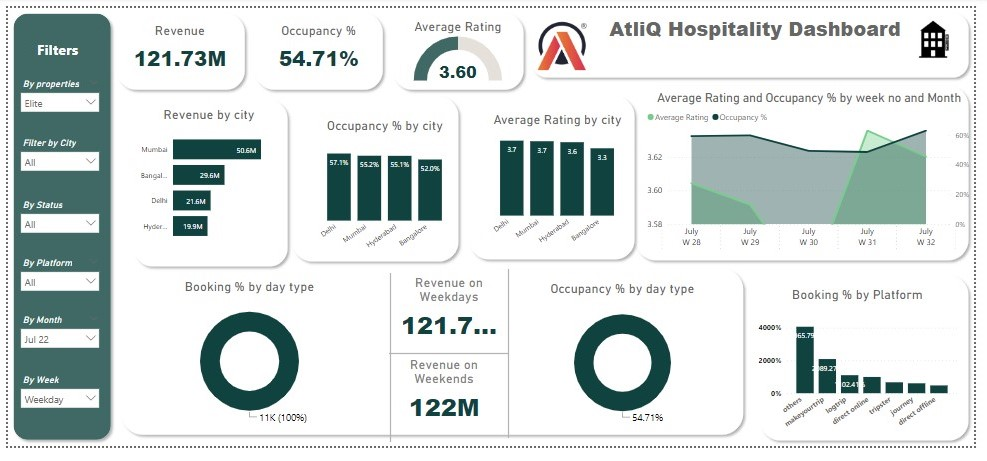

Layout of this report page (visuals, bound fields, positions):
{"tool":"powerbi","page":{"name":"Page 3","canvas":[1900,1100],"ordinal":2},"visuals":[{"type":"group","id":"g1","title":"Group 1","box":[92.9,166.4,470,61.5],"z":0,"group":"g2"},{"type":"tableEx","fields":{"Values":["dim_date.day type","key_measures.RevPAR","key_measures.Occupancy %","key_measures.ADR","key_measures.Realisation %"]},"box":[102,364,414,104],"z":0,"group":"g5"},{"type":"shape","box":[222.2,1047.2,1390.4,52.8],"z":0},{"type":"slicer","title":"Filter by city","fields":{"Values":["dim_hotels.city"]},"box":[58.3,11.6,235.4,63.7],"z":1000,"group":"g6"},{"type":"shape","box":[640.2,103.4,488.4,312.4],"z":1000},{"type":"group","id":"g2","title":"Group 3","box":[38,104,562,123.9],"z":1000,"group":"g5"},{"type":"group","id":"g3","title":"Group 2","box":[38,104,562,65.7],"z":1000,"group":"g2"},{"type":"shape","box":[1106,0,794,96],"z":2000},{"type":"slicer","title":"Filter by room class","fields":{"Values":["dim_rooms.room_class"]},"box":[314.4,6.7,238.2,62.3],"z":2000,"group":"g6"},{"type":"group","id":"g4","title":"Group 5","box":[40.1,234,547.2,118.9],"z":2000,"group":"g5"},{"type":"shape","box":[1128,104,772,312],"z":3000},{"type":"shape","box":[626.7,5,478.3,98.3],"z":4000},{"type":"shape","box":[18,82,608,432],"z":5000},{"type":"card","title":"Revenue","fields":{"Values":["key_measures.Revenue"]},"box":[38,104,195.9,65.7],"z":5000,"group":"g3"},{"type":"shape","box":[30.8,510.4,578.6,536.8],"z":6000},{"type":"card","title":"RevPAR","fields":{"Values":["key_measures.RevPAR"]},"box":[239.4,104,184.9,65.7],"z":7000,"group":"g3"},{"type":"shape","box":[644,418,1256,628],"z":7000},{"type":"shape","box":[31.7,6.7,553.3,71.7],"z":8000},{"type":"card","title":"DSRN","fields":{"Values":["key_measures.DSRN"]},"box":[424.3,104,175.7,65.7],"z":8000,"group":"g3"},{"type":"group","id":"g5","title":"Group 6","box":[38,104,562,364],"z":9000},{"type":"card","title":"Occupancy %","fields":{"Values":["key_measures.Occupancy %"]},"box":[40.1,235.3,198.4,68.1],"z":9000,"group":"g4"},{"type":"card","title":"ADR","fields":{"Values":["key_measures.ADR"]},"box":[222.4,234,196.6,65.5],"z":10000,"group":"g4"},{"type":"tableEx","fields":{"Values":["dim_hotels.property_id","dim_hotels.property_name","dim_hotels.city","key_measures.Revenue","key_measures.Total Bookings","key_measures.RevPAR","key_measures.Occupancy %","key_measures.ADR","key_measures.DSRN","key_measures.DBRN","key_measures.DURN","key_measures.Realisation %"]},"box":[662,446,1212,576],"z":10000},{"type":"slicer","fields":{"Values":["dim_date.mmm yy"]},"box":[645,18.3,421.7,60],"z":11000},{"type":"card","title":"Realisation %","fields":{"Values":["key_measures.Realisation %"]},"box":[444,234,143,66.8],"z":11000,"group":"g4"},{"type":"slicer","fields":{"Values":["dim_date.week no"]},"box":[1124,12,750,62],"z":12000},{"type":"donutChart","title":"% Revenue by category","fields":{"Category":["dim_hotels.category"],"Y":["key_measures.Revenue"]},"box":[662.2,127.6,442.2,261.8],"z":13000},{"type":"lineChart","title":"Trends by Key Metrics","fields":{"Category":["dim_date.week no","dim_date.mmm yy"],"Y":["key_measures.RevPAR","key_measures.ADR"],"Y2":["key_measures.Occupancy %"]},"box":[1142,128,732,262],"z":14000},{"type":"tableEx","fields":{"Values":["key_measures.Revpar WoW change %"]},"box":[92.9,173.1,101.9,54.8],"z":15000,"group":"g1"},{"type":"lineStackedColumnComboChart","fields":{"Y":["key_measures.Realisation %"],"Category":["fact_bookings.booking_platform"],"Y2":["key_measures.ADR"]},"box":[68.2,532.4,517,490.6],"z":15000},{"type":"group","id":"g6","title":"Group 7","box":[58.3,6.7,493.3,68.3],"z":16000},{"type":"tableEx","fields":{"Values":["key_measures.Revpar WoW change %"]},"box":[277,166.4,101.9,54.8],"z":16000,"group":"g1"},{"type":"image","box":[232,1052,82,44],"z":16000,"group":"g7"},{"type":"tableEx","fields":{"Values":["key_measures.Revpar WoW change %"]},"box":[461,173.1,101.9,54.8],"z":17000,"group":"g1"},{"type":"group","id":"g7","title":"Group 8","box":[232,1052,1320,44],"z":17000},{"type":"textbox","box":[360,1058,1192,38],"z":17000,"group":"g7"},{"type":"tableEx","fields":{"Values":["key_measures.Revpar WoW change %"]},"box":[75.8,299.5,101.9,54.8],"z":18000,"group":"g8"},{"type":"tableEx","fields":{"Values":["key_measures.Revpar WoW change %"]},"box":[263.4,295.5,101.9,54.8],"z":19000,"group":"g8"},{"type":"tableEx","fields":{"Values":["key_measures.Revpar WoW change %"]},"box":[443.9,299.5,101.9,54.8],"z":20000,"group":"g8"},{"type":"group","id":"g8","title":"Group 4","box":[75.8,295.5,470,58.8],"z":20004,"group":"g4"}]}

Visuals, with their boxes on the page's 1900x1100 design canvas (x1, y1, x2, y2). These are canvas units, not pixel positions in the 987x461 screenshot, which may show the page scaled, cropped or inside an application window:
"Group 1" group: 93:166:563:228
tableEx - dim_date.day type x key_measures.RevPAR: 102:364:516:468
shape: 222:1047:1613:1100
"Filter by city" slicer: 58:12:294:75
shape: 640:103:1129:416
"Group 3" group: 38:104:600:228
"Group 2" group: 38:104:600:170
shape: 1106:0:1900:96
"Filter by room class" slicer: 314:7:553:69
"Group 5" group: 40:234:587:353
shape: 1128:104:1900:416
shape: 627:5:1105:103
shape: 18:82:626:514
"Revenue" card: 38:104:234:170
shape: 31:510:609:1047
"RevPAR" card: 239:104:424:170
shape: 644:418:1900:1046
shape: 32:7:585:78
"DSRN" card: 424:104:600:170
"Group 6" group: 38:104:600:468
"Occupancy %" card: 40:235:238:303
"ADR" card: 222:234:419:300
tableEx - dim_hotels.property_id x dim_hotels.property_name: 662:446:1874:1022
slicer - dim_date.mmm yy: 645:18:1067:78
"Realisation %" card: 444:234:587:301
slicer - dim_date.week no: 1124:12:1874:74
"% Revenue by category" donutChart: 662:128:1104:389
"Trends by Key Metrics" lineChart: 1142:128:1874:390
tableEx - key_measures.Revpar WoW change %: 93:173:195:228
lineStackedColumnComboChart - key_measures.Realisation % x fact_bookings.booking_platform: 68:532:585:1023
"Group 7" group: 58:7:552:75
tableEx - key_measures.Revpar WoW change %: 277:166:379:221
image: 232:1052:314:1096
tableEx - key_measures.Revpar WoW change %: 461:173:563:228
"Group 8" group: 232:1052:1552:1096
textbox: 360:1058:1552:1096
tableEx - key_measures.Revpar WoW change %: 76:300:178:354
tableEx - key_measures.Revpar WoW change %: 263:296:365:350
tableEx - key_measures.Revpar WoW change %: 444:300:546:354
"Group 4" group: 76:296:546:354
